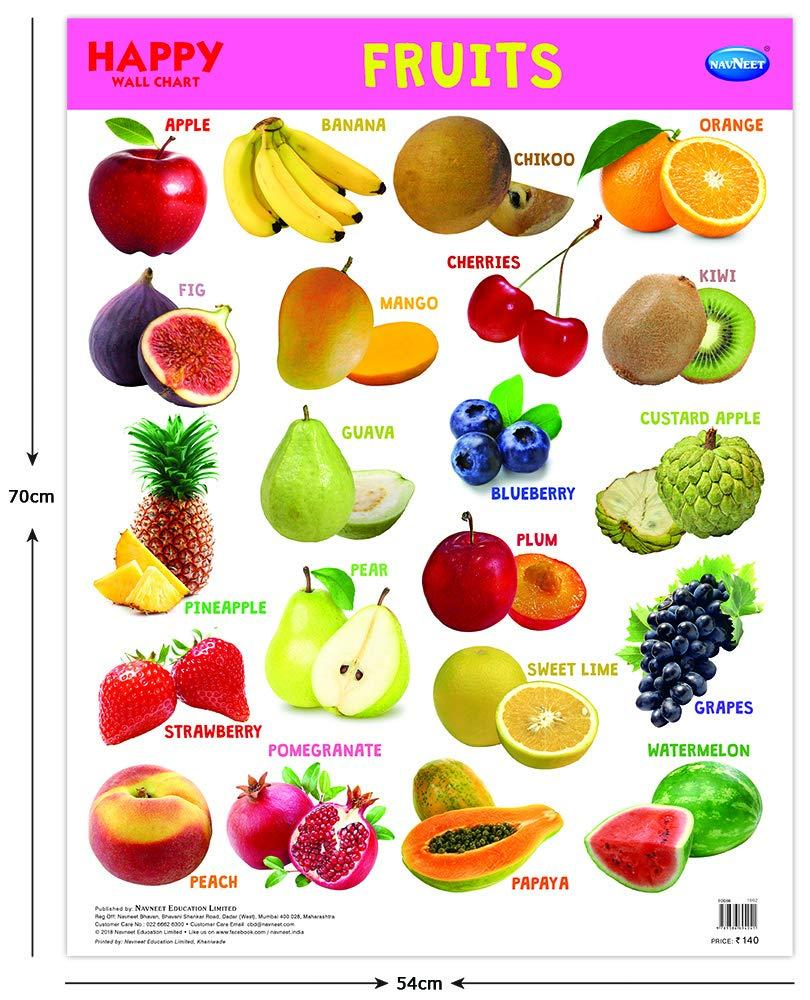chuoi: (226, 119, 386, 246)
xoai: (271, 260, 376, 394)
